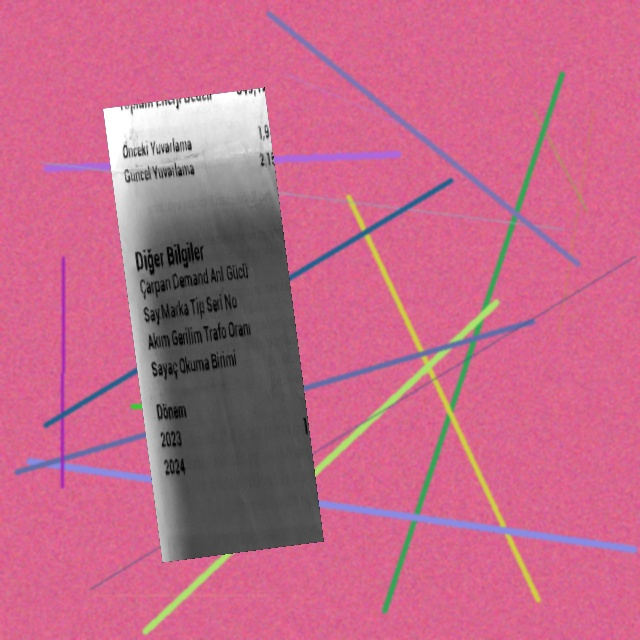electricity-bill: (103, 86, 324, 562)
